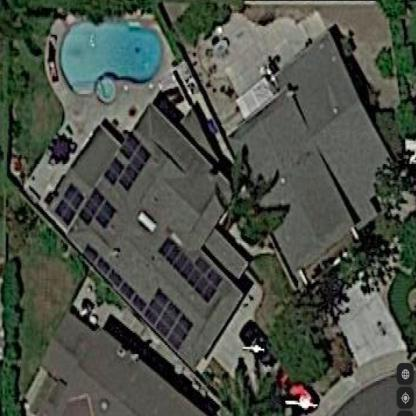car: (236, 321, 293, 372), (270, 372, 333, 415)
solar_panel: (74, 239, 196, 350), (150, 231, 242, 306), (53, 178, 119, 235), (101, 136, 154, 191)
swimming_pool: (51, 6, 175, 107)
